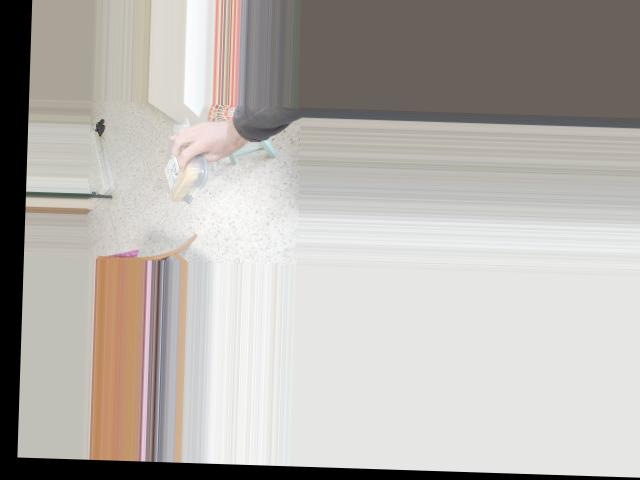cheese: (164, 128, 203, 203)
